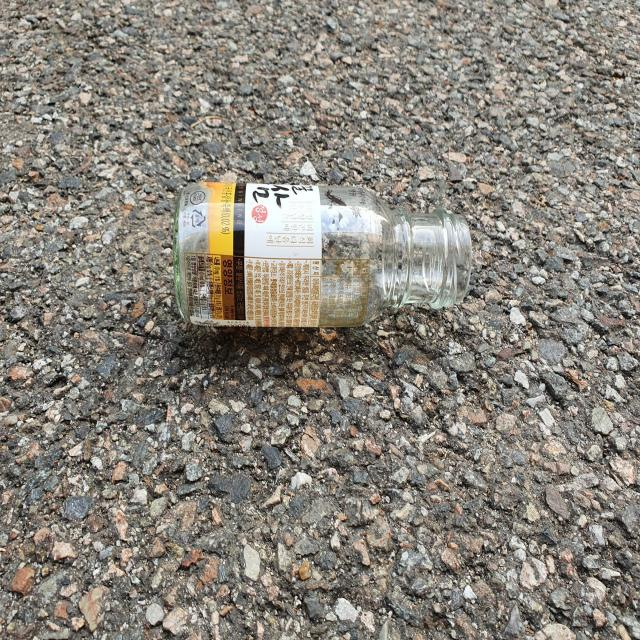glass: (174, 182, 472, 327)
